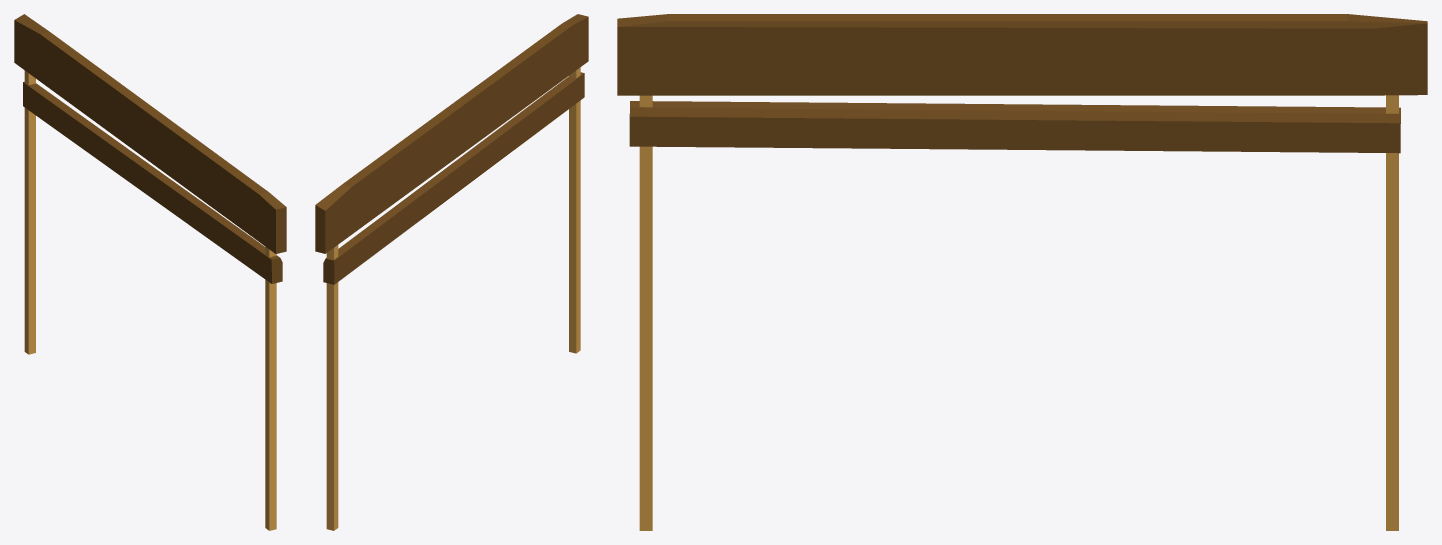
Rendered from MemoryChankItem.fbx.
3 renders of one model, left to right at view 1: azimuth 30°, elevation 25°; view 2: azimuth 150°, elevation 25°; view 3: azimuth 270°, elevation 25°, orthographic. The views are drawn at different scales.
Visible parts, largest first — view 1: Cube.005; view 2: Cube.005; view 3: Cube.005.
Part boxes in pixels (<box>): Cube.005: <box>14,14,286,530</box>; Cube.005: <box>315,14,588,530</box>; Cube.005: <box>617,14,1427,530</box>.
Bounding box in the file's own units: 0.6 × 17.53 × 25.2.
